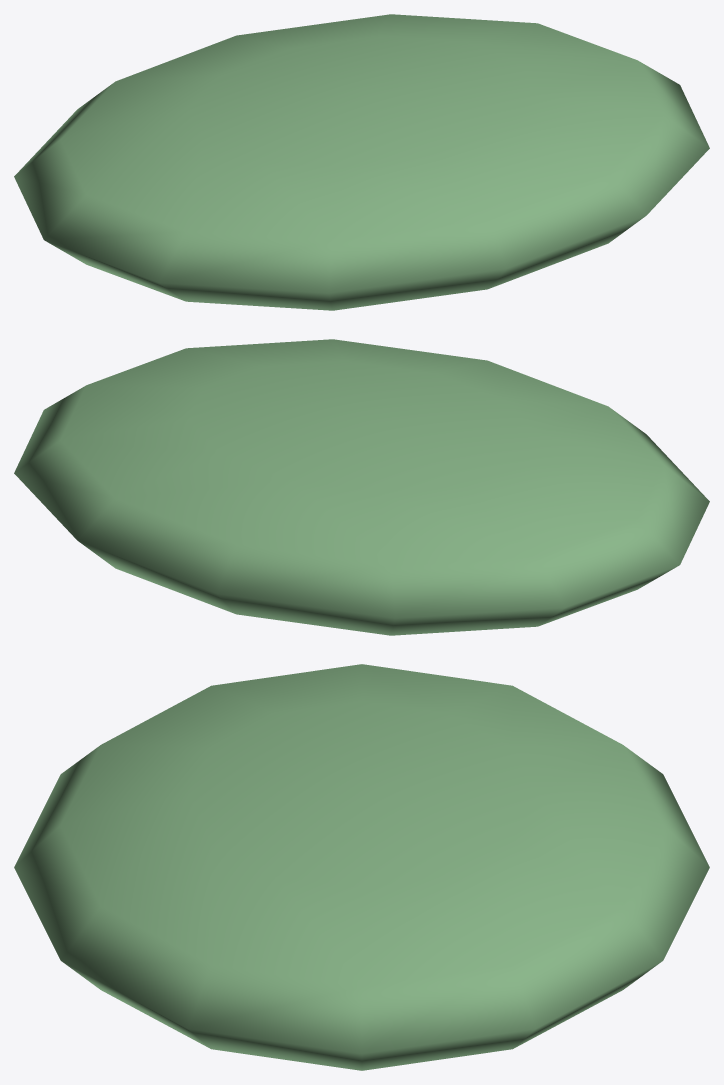
3 renders of one model, top to bottom at view 1: azimuth 30°, elevation 25°; view 2: azimuth 150°, elevation 25°; view 3: azimuth 270°, elevation 25°, orthographic. The views are drawn at different scales.
Parts seen in each view (by area): view 1: Low terrain; view 2: Low terrain; view 3: Low terrain.
Boxes of the visible parts, x1,y1,x2,y2 form: Low terrain: (14,14,709,310); Low terrain: (14,339,709,635); Low terrain: (14,664,709,1070).
Size of the model in its own units: 1.9 by 0.4 by 1.5.
Materials: 1 (1 with a texture image).
